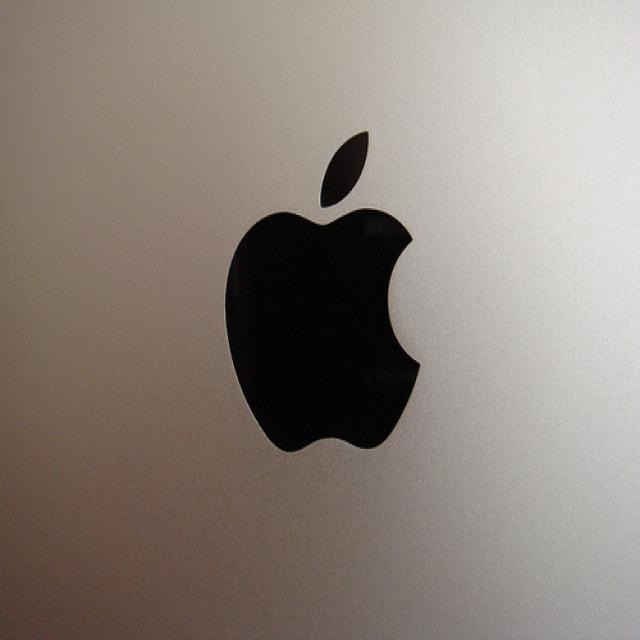apple: (218, 119, 429, 465)
